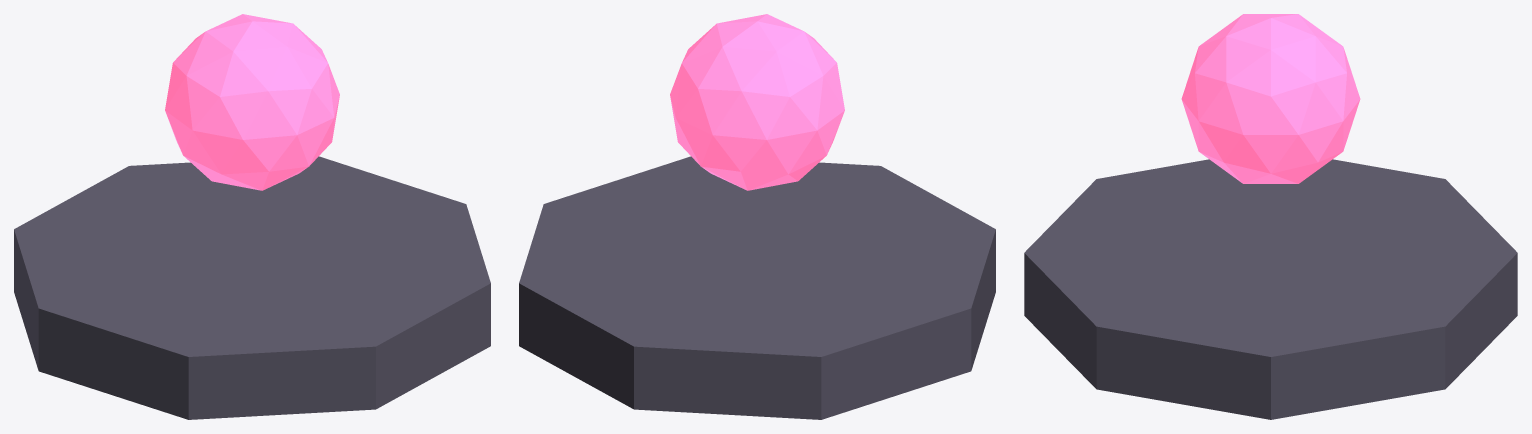
Rendered from soul_altar.glb.
3 views of the same model, side by side, from view 1: azimuth 30°, elevation 25°; view 2: azimuth 150°, elevation 25°; view 3: azimuth 270°, elevation 25° (orthographic).
Parts seen in each view (by area): view 1: Cylinder, Icosphere; view 2: Cylinder, Icosphere; view 3: Cylinder, Icosphere.
Part boxes in pixels (x1,y1,x2,y2): Cylinder: [14, 156, 490, 419]; Icosphere: [165, 14, 339, 190]; Cylinder: [519, 156, 995, 419]; Icosphere: [670, 14, 844, 190]; Cylinder: [1024, 159, 1517, 419]; Icosphere: [1181, 14, 1360, 183].
Bounding box in the file's own units: 3.2 × 2.13 × 3.2.
